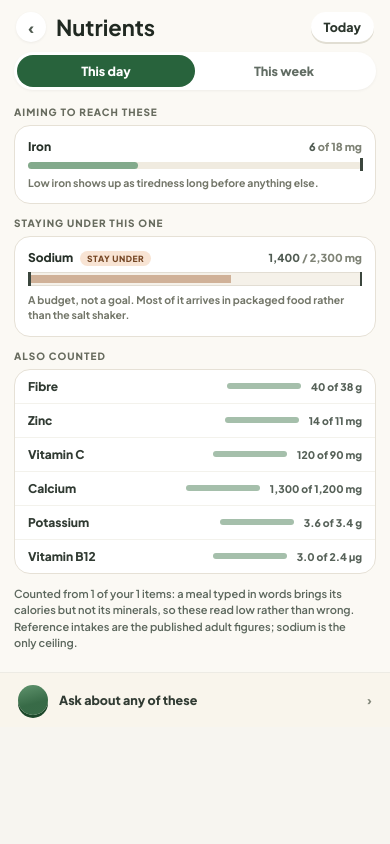
NutrientsPanel › says so plainly when the week has nothing finished to average
The image size is (390, 844).
What coordinates should you click on to do the following:
click the tab "This week"
I would click on:
 (284, 71)
Its box is x1=195 y1=55 x2=373 y2=87.
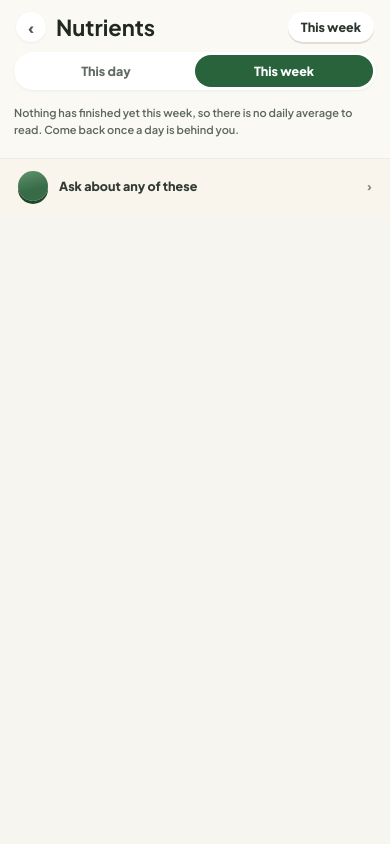
Expected: the text "no daily average to read" is shown, x1=14 y1=106 x2=352 y2=136
